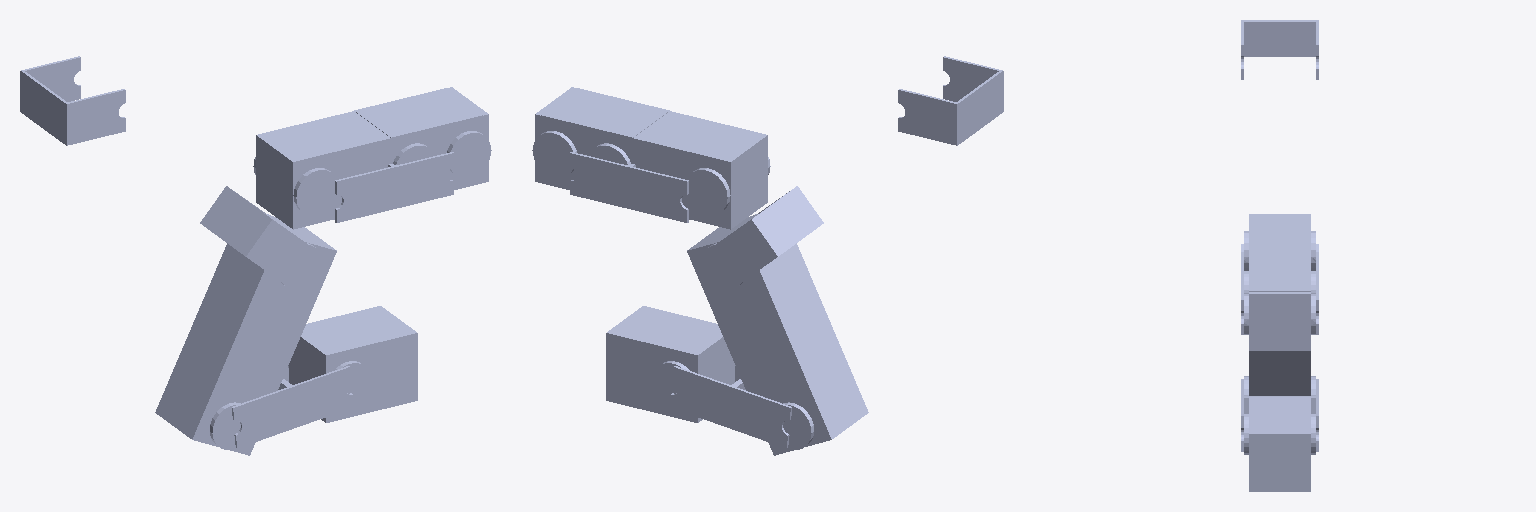
The robot description file, URDF, robot "urdfAttempt3.urdf":
<robot
  name="urdfAttempt3.urdf">
  <link
    name="basicArmModel">
    <inertial>
      <origin
        xyz="-0.0513027812094699 -4.51786481406517E-18 -0.0671295095824389"
        rpy="0 0 0" />
      <mass
        value="0.218540176386208" />
      <inertia
        ixx="6.12769930504918E-05"
        ixy="2.00458349935325E-20"
        ixz="8.54139203116646E-05"
        iyy="0.000218895135984386"
        iyz="-7.98472703931539E-21"
        izz="0.000157618142933894" />
    </inertial>
    <visual>
      <origin
        xyz="0 0 0"
        rpy="0 0 0" />
      <geometry>
        <mesh
          filename="package://urdfAttempt3.urdf/meshes/basicArmModel.STL" />
      </geometry>
      <material
        name="">
        <color
          rgba="0.792156862745098 0.819607843137255 0.933333333333333 1" />
      </material>
    </visual>
    <collision>
      <origin
        xyz="0 0 0"
        rpy="0 0 0" />
      <geometry>
        <mesh
          filename="package://urdfAttempt3.urdf/meshes/basicArmModel.STL" />
      </geometry>
    </collision>
  </link>
  <link
    name="Top_Link">
    <inertial>
      <origin
        xyz="-0.171638557485766 0.0865389449678522 4.00993662224418E-17"
        rpy="0 0 0" />
      <mass
        value="0.00343500504147382" />
      <inertia
        ixx="0"
        ixy="0"
        ixz="0"
        iyy="0"
        iyz="0"
        izz="0" />
    </inertial>
    <visual>
      <origin
        xyz="0 0 0"
        rpy="0 0 0" />
      <geometry>
        <mesh
          filename="package://urdfAttempt3.urdf/meshes/Top_Link.STL" />
      </geometry>
      <material
        name="">
        <color
          rgba="0.792156862745098 0.819607843137255 0.933333333333333 1" />
      </material>
    </visual>
    <collision>
      <origin
        xyz="0 0 0"
        rpy="0 0 0" />
      <geometry>
        <mesh
          filename="package://urdfAttempt3.urdf/meshes/Top_Link.STL" />
      </geometry>
    </collision>
  </link>
  <joint
    name="Top_Joint"
    type="fixed">
    <origin
      xyz="0.0015681 0 -0.18369"
      rpy="1.5708 0.73406 -5.5245E-17" />
    <parent
      link="basicArmModel" />
    <child
      link="Top_Link" />
    <axis
      xyz="0 0 0" />
  </joint>
  <link
    name="Middle_Link">
    <inertial>
      <origin
        xyz="-4.48350371141937E-06 0.0178000000000011 -2.99206319174846E-18"
        rpy="0 0 0" />
      <mass
        value="0.141480656645557" />
      <inertia
        ixx="0"
        ixy="0"
        ixz="0"
        iyy="0"
        iyz="0"
        izz="0" />
    </inertial>
    <visual>
      <origin
        xyz="0 0 0"
        rpy="0 0 0" />
      <geometry>
        <mesh
          filename="package://urdfAttempt3.urdf/meshes/Middle_Link.STL" />
      </geometry>
      <material
        name="">
        <color
          rgba="0.792156862745098 0.819607843137255 0.933333333333333 1" />
      </material>
    </visual>
    <collision>
      <origin
        xyz="0 0 0"
        rpy="0 0 0" />
      <geometry>
        <mesh
          filename="package://urdfAttempt3.urdf/meshes/Middle_Link.STL" />
      </geometry>
    </collision>
  </link>
  <joint
    name="Middle_Joint"
    type="revolute">
    <origin
      xyz="-0.085641 0 -0.049486"
      rpy="-1.5708 1.1092 -3.1416" />
    <parent
      link="basicArmModel" />
    <child
      link="Middle_Link" />
    <axis
      xyz="1 0 0" />
    <limit
      effort="0"
      velocity="0" />
  </joint>
  <link
    name="Bottom_Link">
    <inertial>
      <origin
        xyz="5.55111512312578E-17 0.0110000000000006 1.74728048199829E-17"
        rpy="0 0 0" />
      <mass
        value="0.00684520355262773" />
      <inertia
        ixx="0"
        ixy="0"
        ixz="0"
        iyy="0"
        iyz="0"
        izz="0" />
    </inertial>
    <visual>
      <origin
        xyz="0 0 0"
        rpy="0 0 0" />
      <geometry>
        <mesh
          filename="package://urdfAttempt3.urdf/meshes/Bottom_Link.STL" />
      </geometry>
      <material
        name="">
        <color
          rgba="0.792156862745098 0.819607843137255 0.933333333333333 1" />
      </material>
    </visual>
    <collision>
      <origin
        xyz="0 0 0"
        rpy="0 0 0" />
      <geometry>
        <mesh
          filename="package://urdfAttempt3.urdf/meshes/Bottom_Link.STL" />
      </geometry>
    </collision>
  </link>
  <joint
    name="Bottom_Joint"
    type="revolute">
    <origin
      xyz="-0.05498 0 -0.10266"
      rpy="1.5708 -0.10405 6.3939E-18" />
    <parent
      link="basicArmModel" />
    <child
      link="Bottom_Link" />
    <axis
      xyz="1 0 0" />
    <limit
      effort="0"
      velocity="0" />
  </joint>
  <link
    name="Base_Link">
    <inertial>
      <origin
        xyz="0.024825 0.017928 3.7667E-18"
        rpy="0 0 0" />
      <mass
        value="0.066779" />
      <inertia
        ixx="0"
        ixy="0"
        ixz="0"
        iyy="0"
        iyz="0"
        izz="0" />
    </inertial>
    <visual>
      <origin
        xyz="0 0 0"
        rpy="0 0 0" />
      <geometry>
        <mesh
          filename="package://urdfAttempt3.urdf/meshes/Base_Link.STL" />
      </geometry>
      <material
        name="">
        <color
          rgba="0.79216 0.81961 0.93333 1" />
      </material>
    </visual>
    <collision>
      <origin
        xyz="0 0 0"
        rpy="0 0 0" />
      <geometry>
        <mesh
          filename="package://urdfAttempt3.urdf/meshes/Base_Link.STL" />
      </geometry>
    </collision>
  </link>
  <joint
    name="Base_Joint"
    type="revolute">
    <origin
      xyz="-0.035749 0 -0.10642"
      rpy="1.5708 -0.0027547 1.6867E-19" />
    <parent
      link="basicArmModel" />
    <child
      link="Base_Link" />
    <axis
      xyz="1 0 0" />
    <limit
      effort="0"
      velocity="0" />
  </joint>
</robot>

--- Render facts (derived) ---
The picture shows the robot from 3 angles, left to right: view 1: azimuth 30°, elevation 25°; view 2: azimuth 150°, elevation 25°; view 3: azimuth 270°, elevation 25°; orthographic projection.
Robot: urdfAttempt3.urdf — 5 links, 4 joints (3 revolute, 1 fixed); root link basicArmModel; default pose: all joints at 0.
Visible links, largest first — view 1: basicArmModel, Middle_Link, Base_Link, Bottom_Link, Top_Link; view 2: basicArmModel, Middle_Link, Base_Link, Bottom_Link, Top_Link; view 3: basicArmModel, Base_Link, Middle_Link, Bottom_Link.
Link boxes in pixels (x1,y1,x2,y2): basicArmModel: (20,56,491,229); Middle_Link: (155,214,336,455); Base_Link: (288,306,417,422); Bottom_Link: (232,366,353,448); Top_Link: (200,186,315,286); basicArmModel: (532,56,1003,229); Middle_Link: (687,214,868,455); Base_Link: (606,306,735,422); Bottom_Link: (670,366,791,448); Top_Link: (708,186,823,286); basicArmModel: (1241,20,1318,350); Base_Link: (1244,397,1315,491); Middle_Link: (1244,351,1315,395); Bottom_Link: (1241,379,1318,451).
Size in the robot's own frame: 0.2356 by 0.044 by 0.2113 metres.
5 mesh visuals loaded from 5 distinct referenced files (5 binary STL).